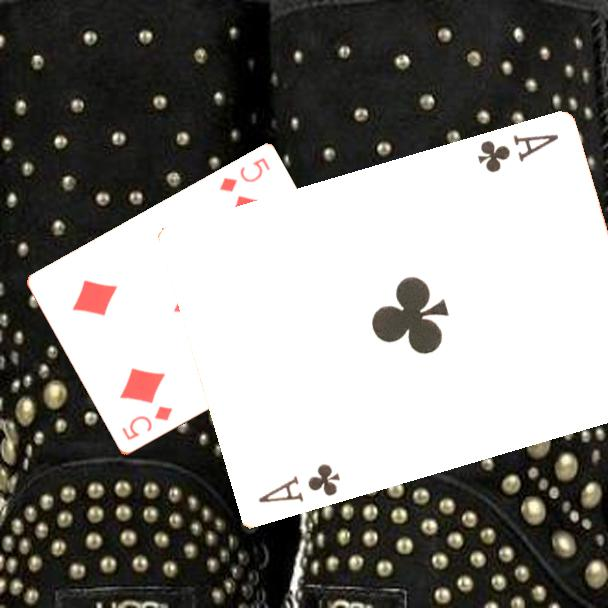c01: (255, 460, 343, 507), (474, 131, 561, 177)
d05: (118, 403, 176, 444), (215, 155, 273, 196)
